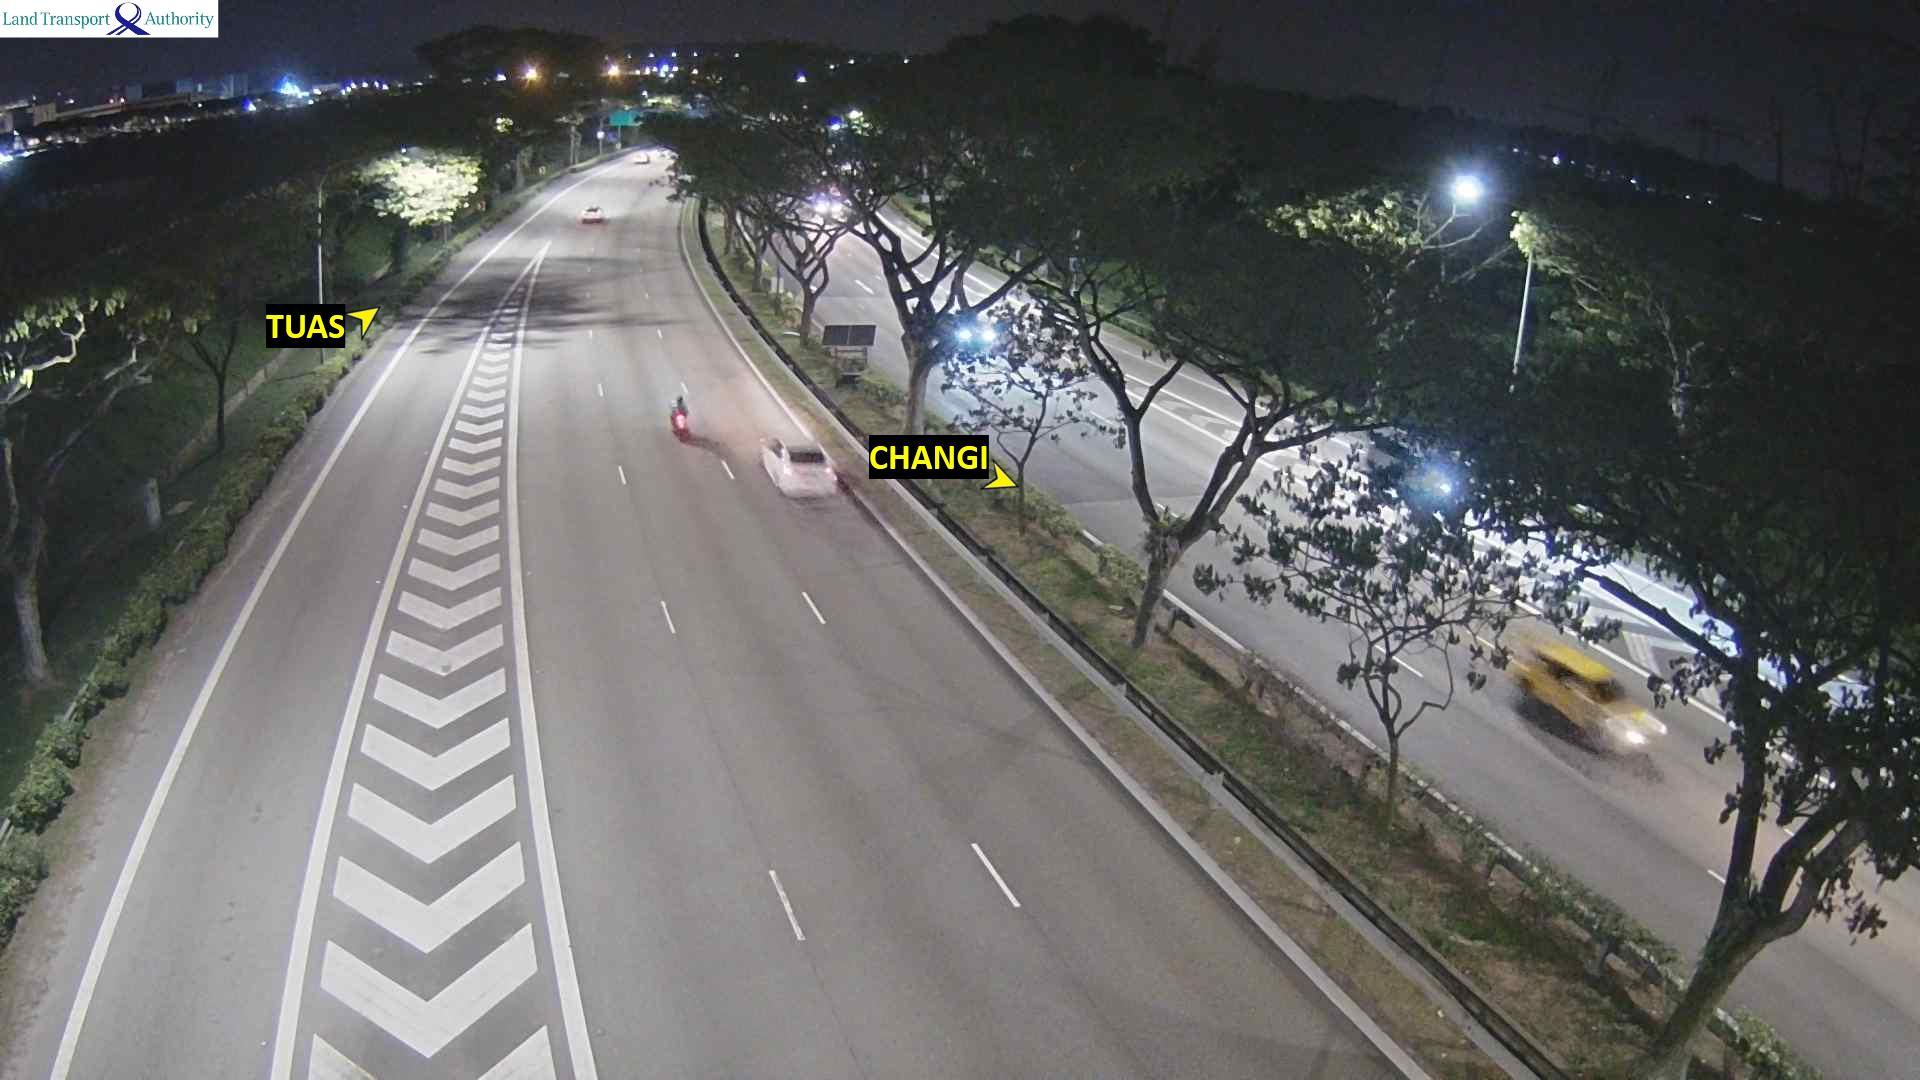cars: (1501, 638, 1667, 756), (758, 435, 837, 498), (939, 302, 1014, 359), (807, 181, 855, 227), (579, 204, 605, 224), (632, 152, 647, 164)
motorcycle: (669, 396, 688, 439)
